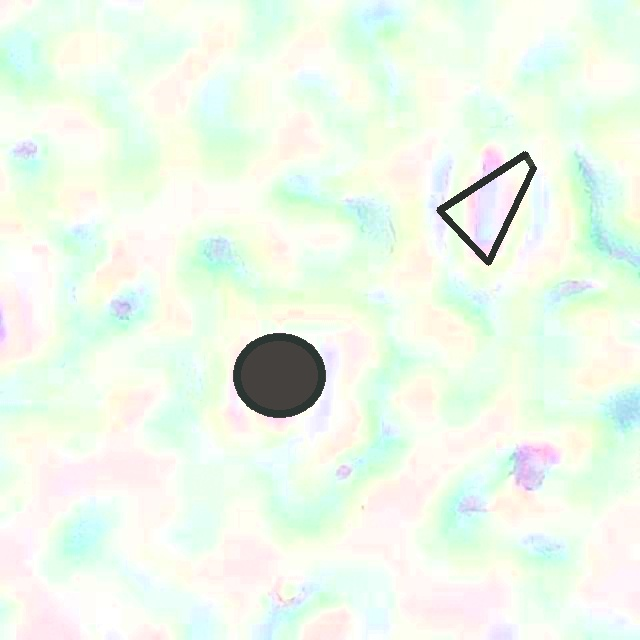open: (436, 151, 536, 265), (232, 334, 325, 417)
